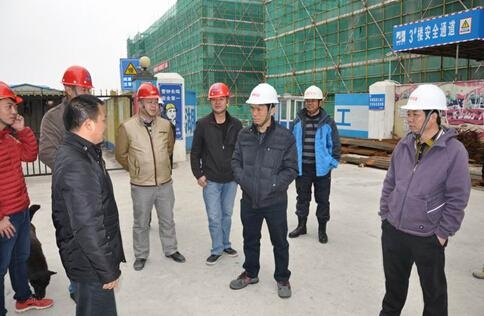none: (59, 92, 109, 149)
red: (60, 65, 95, 100), (1, 80, 23, 128), (134, 81, 162, 115), (206, 82, 231, 114)
white: (402, 83, 448, 137), (243, 82, 282, 128), (301, 86, 323, 113)
